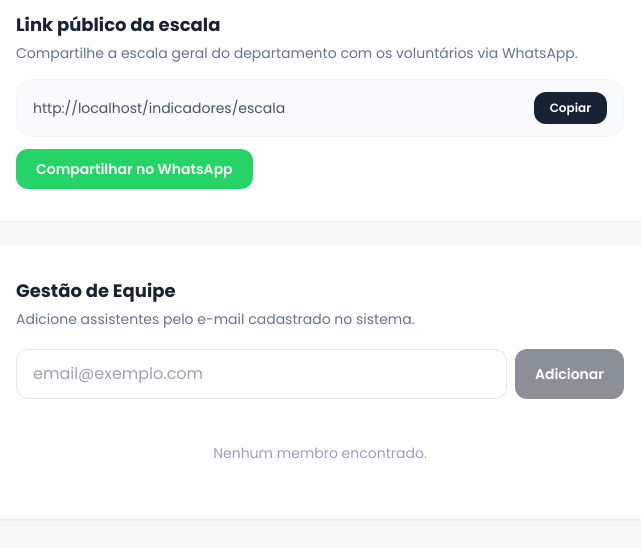
Configuracoes › adds an assistant by email
Type "assist@example.com" into the field with placeholder "email@exemplo.com" at (261, 374), box [16,349,507,399]
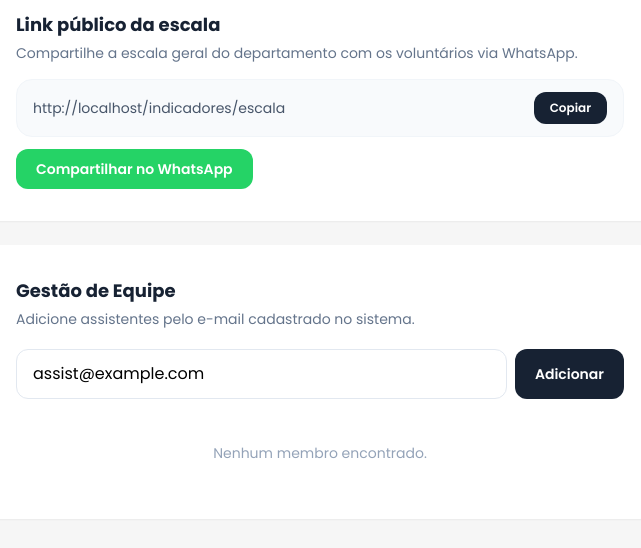
Click the button "Adicionar" at (569, 374), box [515,349,624,399]
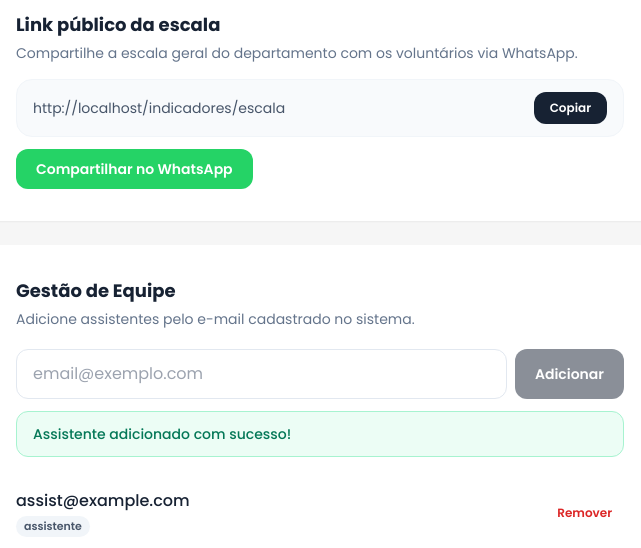
Check: the text "Assistente adicionado com sucesso!" is shown, box [16,411,624,457]
